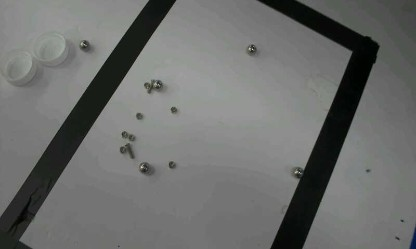ironball: (138, 161, 149, 174), (292, 166, 303, 178), (78, 39, 89, 50), (246, 43, 256, 54), (153, 79, 162, 88), (167, 160, 175, 168)
